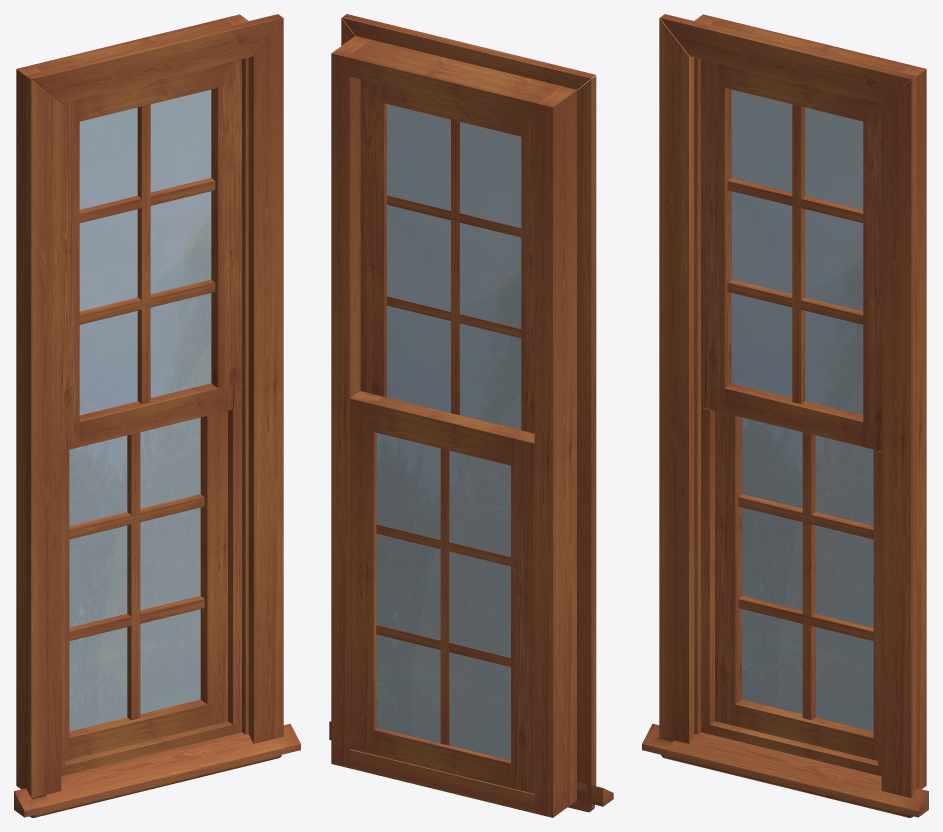
3 views of the same model, side by side, from view 1: azimuth 30°, elevation 25°; view 2: azimuth 150°, elevation 25°; view 3: azimuth 330°, elevation 25° (orthographic).
Parts seen in each view (by area): view 1: glass001, glass, trim_left, trim_right, window_right001, trim_top, window_right, sill, box_left, window_left001, box_right, window_bottom001 (+14 smaller); view 2: glass, glass001, box_left, box_right, trim_left, window_right, window_left, window_right001, box_top, window_top, trim_top, window_left001 (+9 smaller); view 3: glass001, glass, trim_right, trim_left, window_left001, window_left, trim_top, sill, box_right, window_right001, box_left, window_bottom001 (+14 smaller).
Part boxes in pixels (box(x1,y1,x2,y2)): glass001: box(79, 89, 211, 415); glass: box(69, 417, 200, 731); trim_left: box(26, 76, 61, 797); trim_right: box(248, 18, 283, 743); window_right001: box(211, 59, 241, 411); trim_top: box(27, 14, 282, 102); window_right: box(200, 411, 227, 725); sill: box(14, 723, 300, 817); box_left: box(16, 65, 56, 789); window_left001: box(59, 99, 79, 451); box_right: box(224, 14, 248, 734); window_bottom001: box(74, 383, 223, 446); glass: box(376, 433, 510, 760); glass001: box(387, 104, 521, 429); box_left: box(534, 86, 576, 817); box_right: box(331, 36, 370, 767); trim_left: box(577, 75, 596, 803); window_right: box(350, 391, 383, 754); window_left: box(511, 430, 534, 793); window_right001: box(360, 80, 386, 397); box_top: box(347, 39, 560, 122); window_top: box(368, 397, 520, 465); trim_top: box(342, 14, 595, 89); window_left001: box(521, 119, 534, 433); glass001: box(731, 89, 863, 415); glass: box(742, 417, 873, 731); trim_right: box(881, 76, 916, 797); trim_left: box(659, 18, 694, 743); window_left001: box(701, 59, 731, 412); window_left: box(715, 411, 742, 725); trim_top: box(660, 14, 915, 102); sill: box(642, 723, 928, 817); box_right: box(884, 65, 926, 789); window_right001: box(863, 99, 883, 451); box_left: box(694, 14, 718, 734); window_bottom001: box(719, 383, 863, 446).
Size of the model in its own units: 23 by 58.92 by 5.
Materials: 7 (7 with a texture image).
